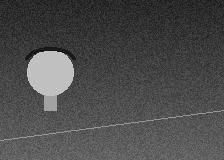no_helmet: (27, 47, 73, 100)
